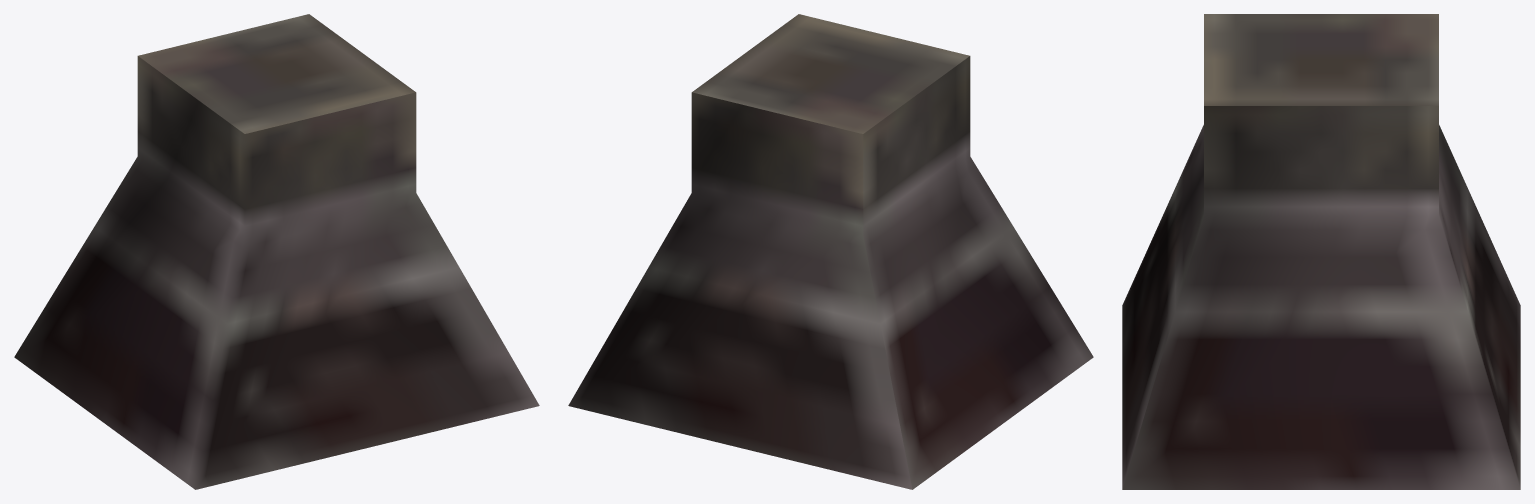
File: OZ_20_wv_T04ink01A.glb
3 renders of one model, left to right at view 1: azimuth 30°, elevation 25°; view 2: azimuth 150°, elevation 25°; view 3: azimuth 270°, elevation 25°, orthographic. The views are drawn at different scales.
Parts seen in each view (by area): view 1: OM_20_wv_T04ink01A; view 2: OM_20_wv_T04ink01A; view 3: OM_20_wv_T04ink01A.
Part boxes in pixels (x1,y1,x2,y2): OM_20_wv_T04ink01A: (14, 14, 539, 489); OM_20_wv_T04ink01A: (568, 14, 1093, 489); OM_20_wv_T04ink01A: (1122, 14, 1520, 489).
Size of the model in its own units: 0.11 by 0.0939 by 0.1003.
1 material, 1 textured.
